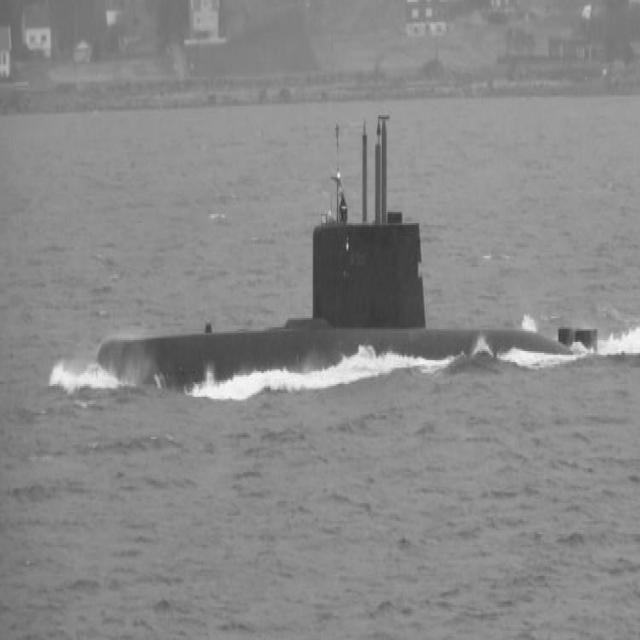submarine: (86, 102, 587, 405)
